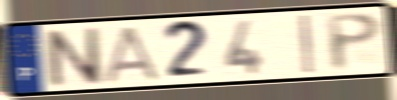2: (160, 18, 215, 85)
4: (223, 18, 266, 77)
A: (103, 24, 163, 84)
I: (297, 13, 316, 76)
N: (41, 25, 106, 88)
P: (323, 10, 384, 73)
